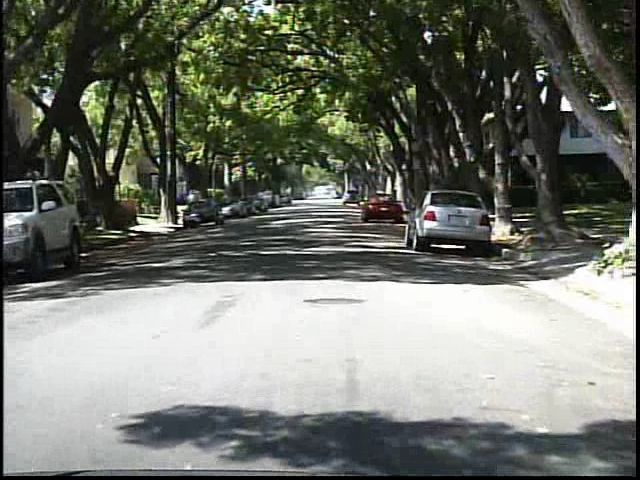person: (182, 187, 201, 218)
